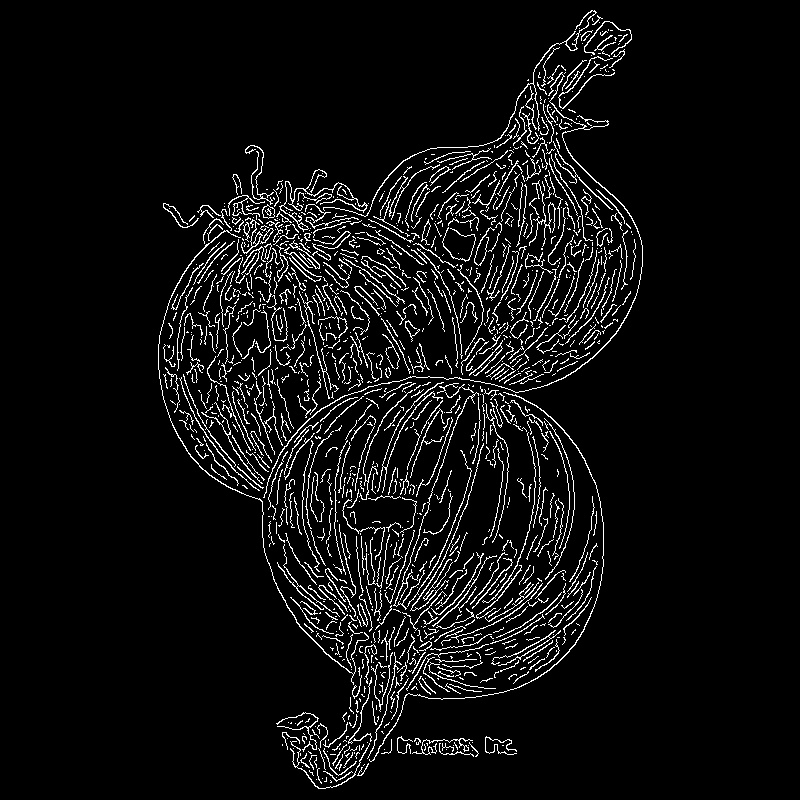red_onion: (228, 366, 613, 800), (121, 126, 453, 498), (354, 12, 651, 392)
